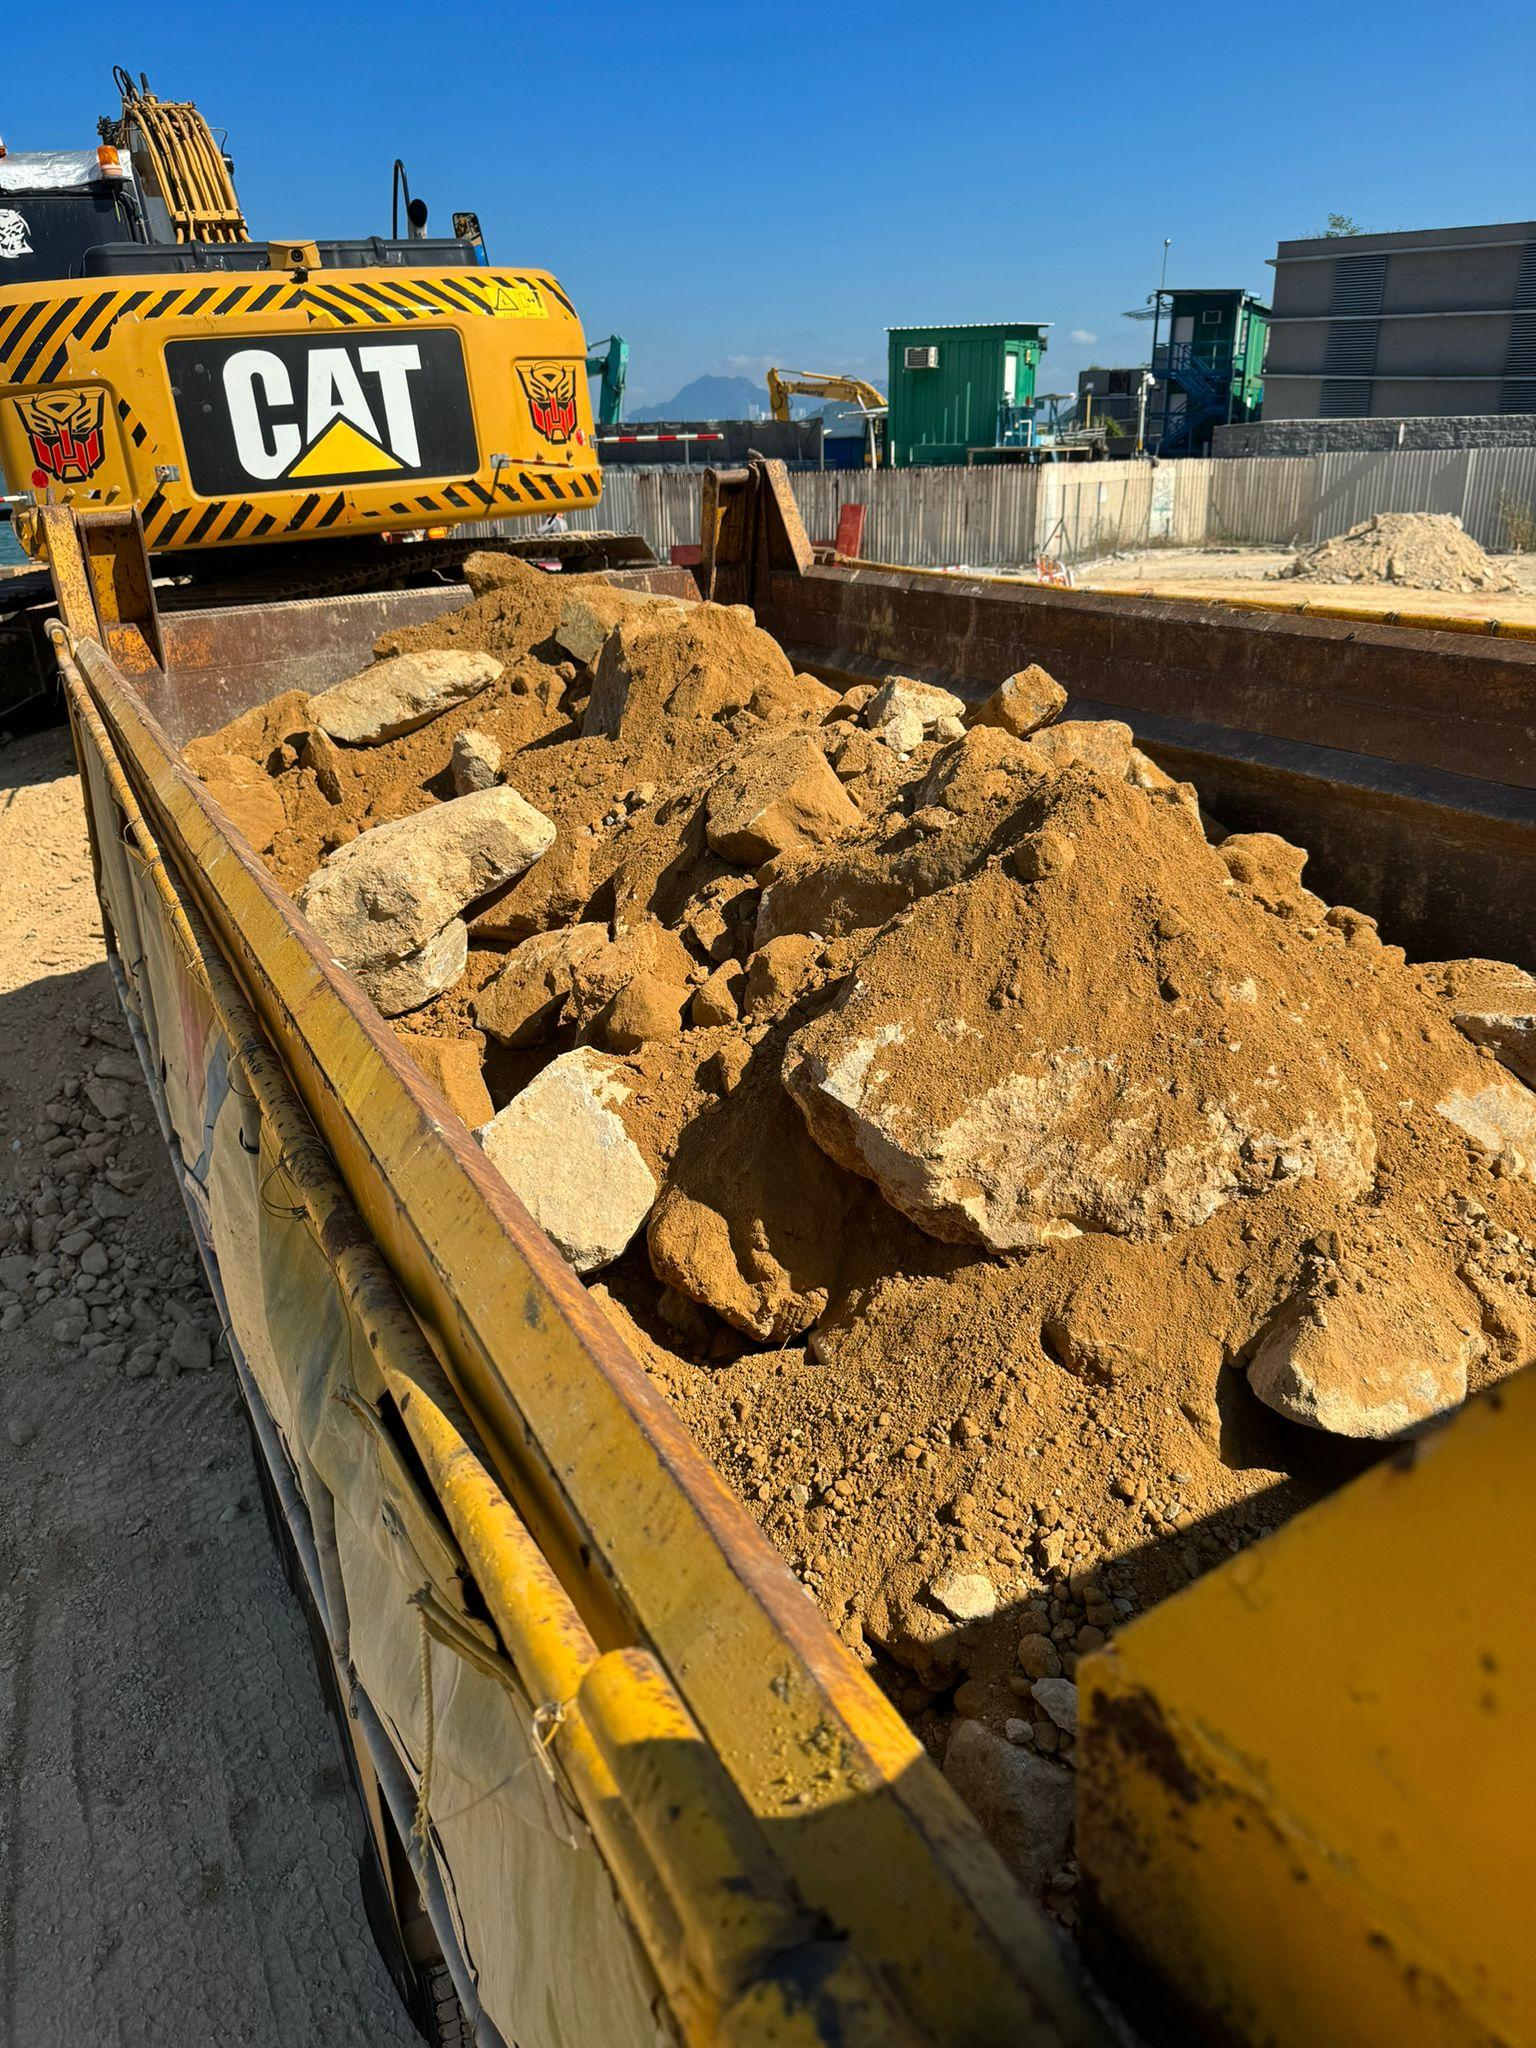wet: (190, 593, 1536, 1684)
